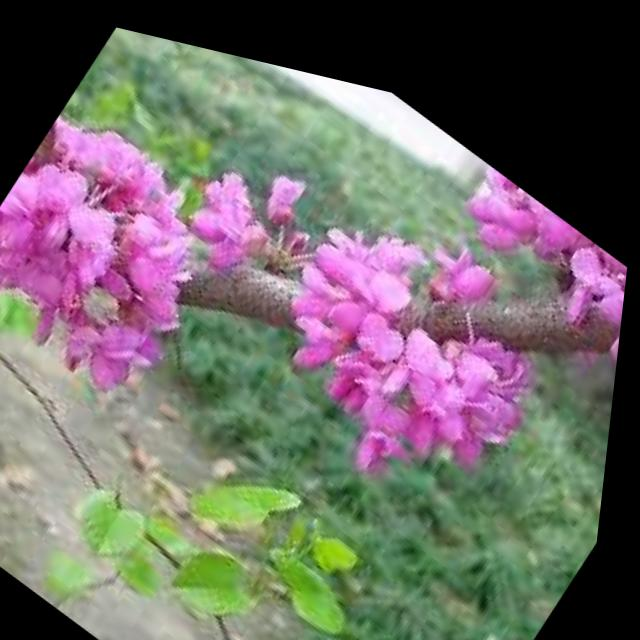Flower: (226, 150, 563, 502), (0, 88, 237, 408), (425, 135, 636, 376)
